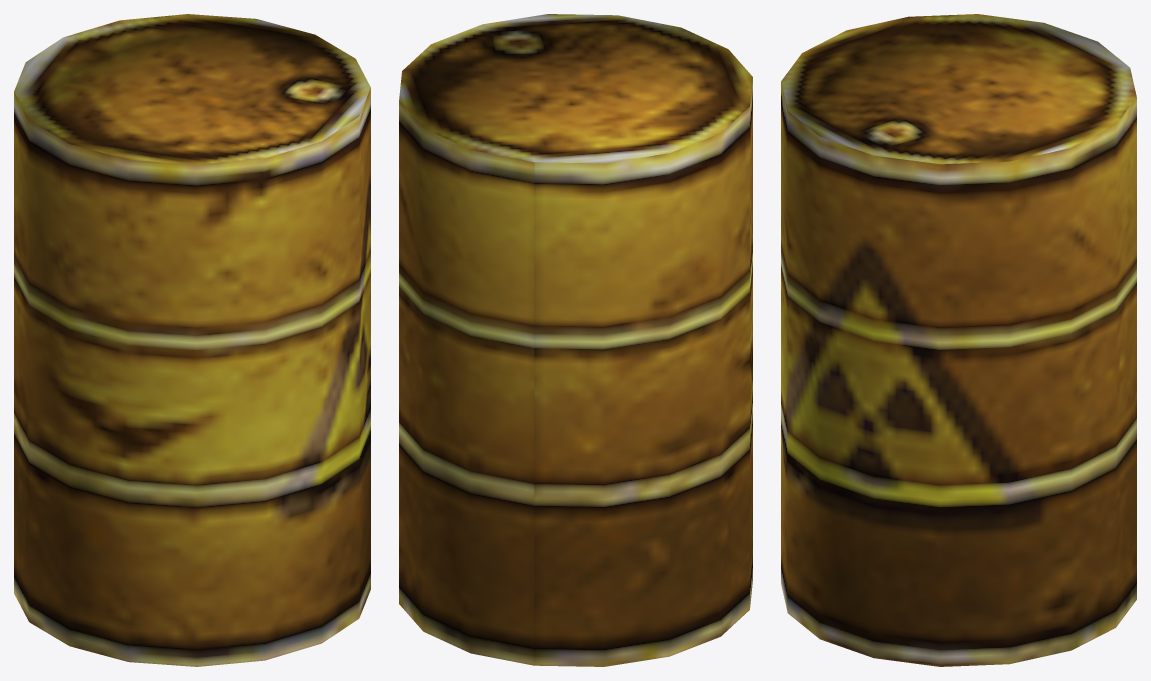
The model's file is radioactive_barrel.fbx.
The picture shows the model from 3 angles, left to right: view 1: azimuth 30°, elevation 25°; view 2: azimuth 150°, elevation 25°; view 3: azimuth 270°, elevation 25°; orthographic projection.
Visible parts, largest first — view 1: pCylinder35; view 2: pCylinder35; view 3: pCylinder35.
Boxes of the visible parts, box(x1,y1,x2,y2) form: pCylinder35: box(14, 14, 370, 666); pCylinder35: box(399, 14, 752, 666); pCylinder35: box(781, 14, 1136, 666).
Size of the model in its own units: 1.99 by 3.11 by 1.99.
